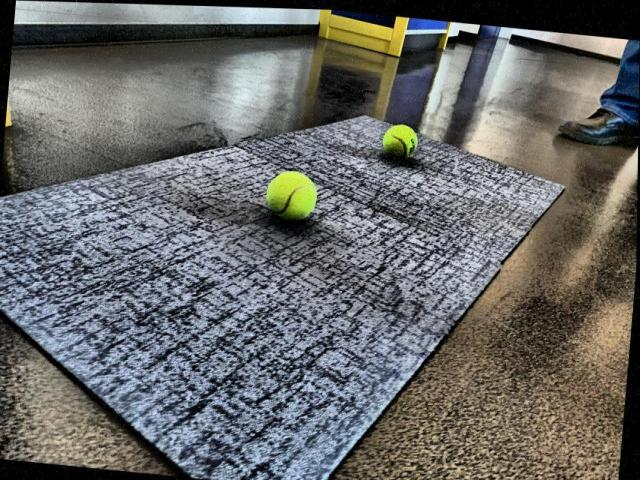tennis-ball: (268, 172, 316, 220), (383, 125, 418, 158)
